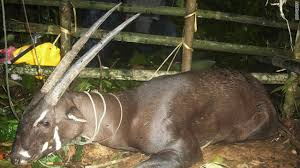sao_la: (10, 6, 276, 166)
